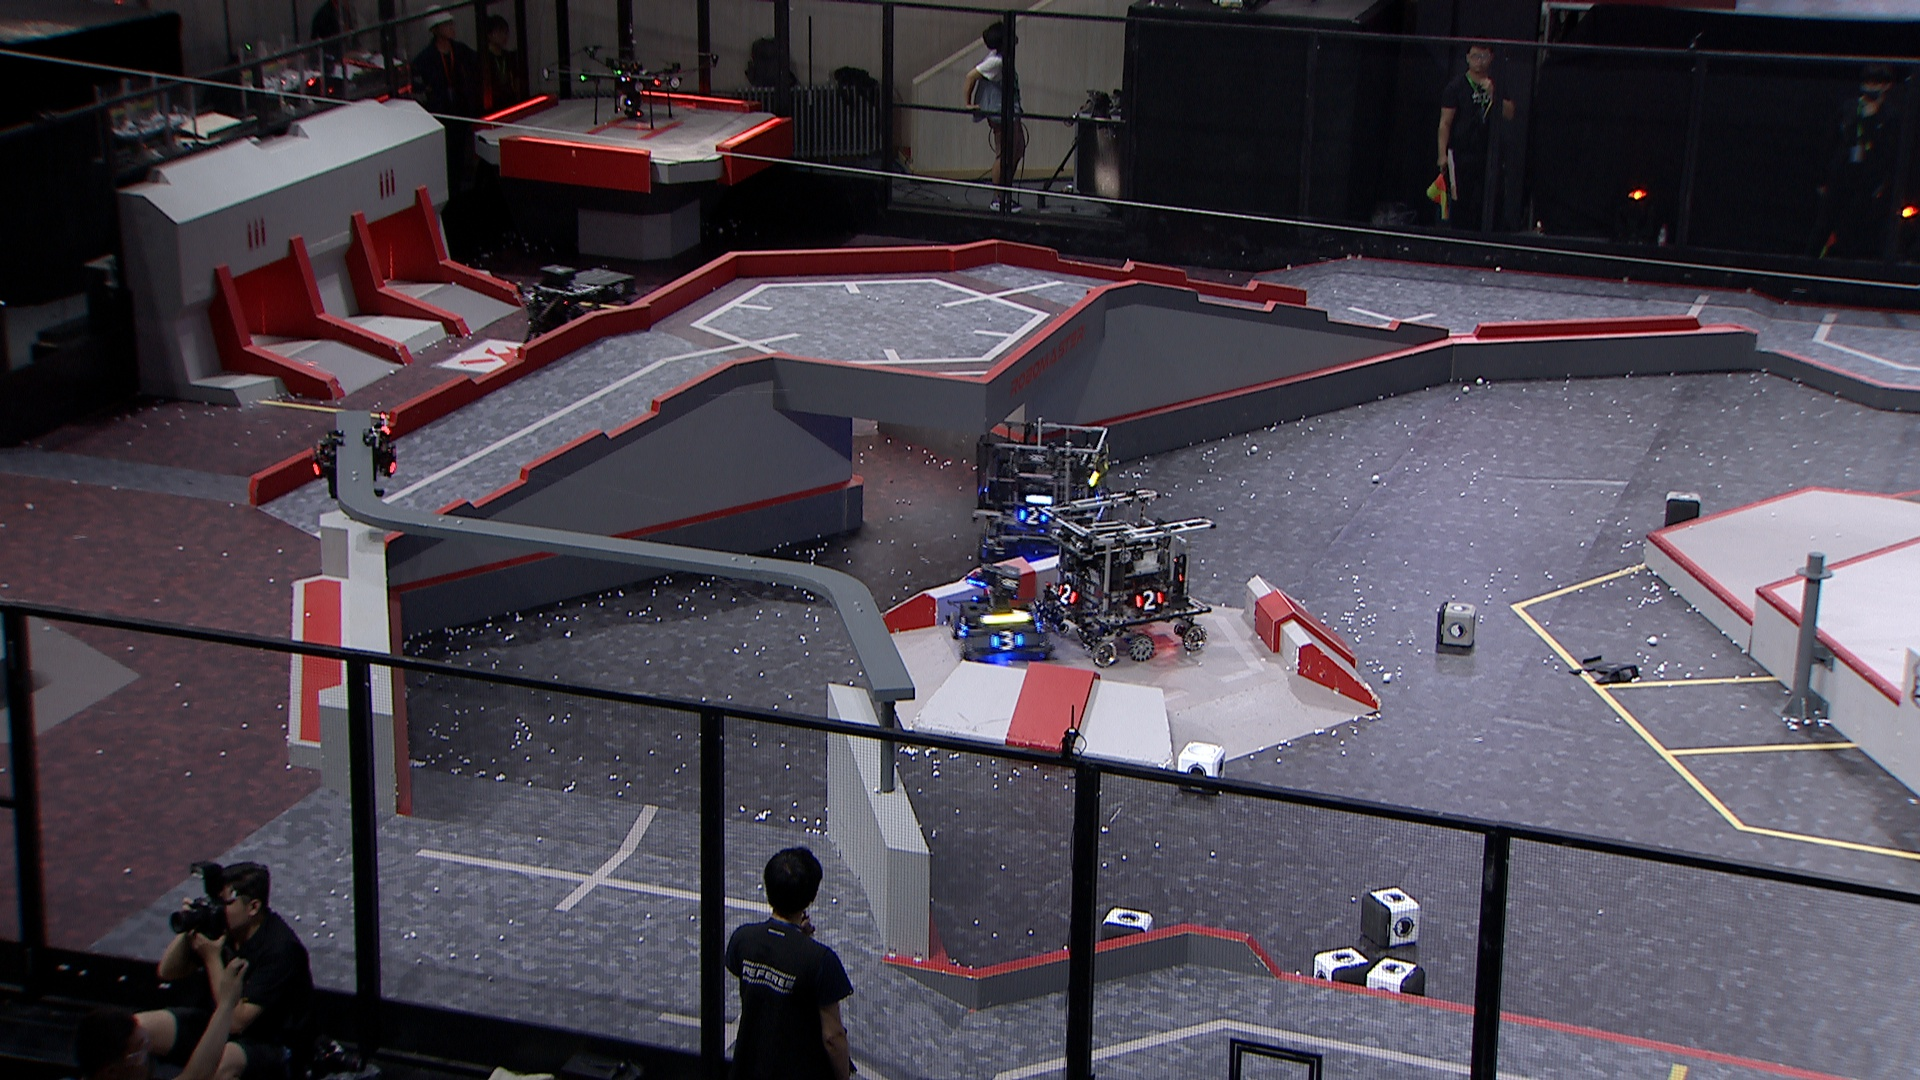armor: (989, 628, 1025, 654), (1133, 589, 1163, 612), (1015, 505, 1046, 527), (1058, 582, 1077, 609), (953, 616, 969, 640)
car: (1038, 489, 1218, 666), (972, 419, 1116, 560), (513, 266, 641, 389), (940, 562, 1054, 665)
watcher: (309, 410, 400, 501)
